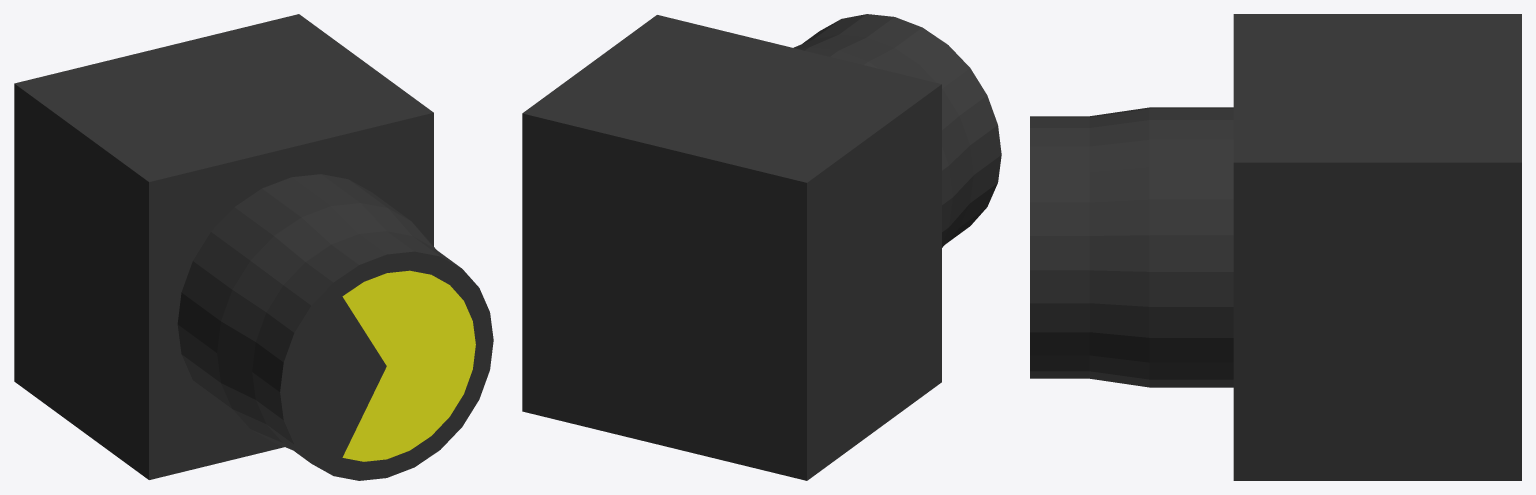
The model's file is differential_drive_Hokuyo_URG_04LX_UG01_body__70__.dae.
The picture shows the model from 3 angles, left to right: view 1: azimuth 30°, elevation 25°; view 2: azimuth 150°, elevation 25°; view 3: azimuth 270°, elevation 25°; orthographic projection. The views are drawn at different scales.
Parts seen in each view (by area): view 1: Node_0x7fc8352bc8f0 (×3); view 2: Node_0x7fc8352bc8f0 (×2); view 3: Node_0x7fc8352bc8f0 (×2).
Part boxes in pixels (box(x1,y1,x2,y2)): Node_0x7fc8352bc8f0 (×3): box(14, 14, 493, 480); Node_0x7fc8352bc8f0 (×2): box(522, 14, 1001, 480); Node_0x7fc8352bc8f0 (×2): box(1030, 14, 1521, 480).
Bounding box in the file's own units: 0.05 × 0.05 × 0.07.
